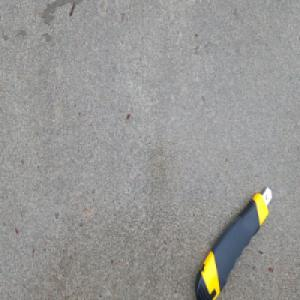Cutter: (192, 180, 273, 298)
